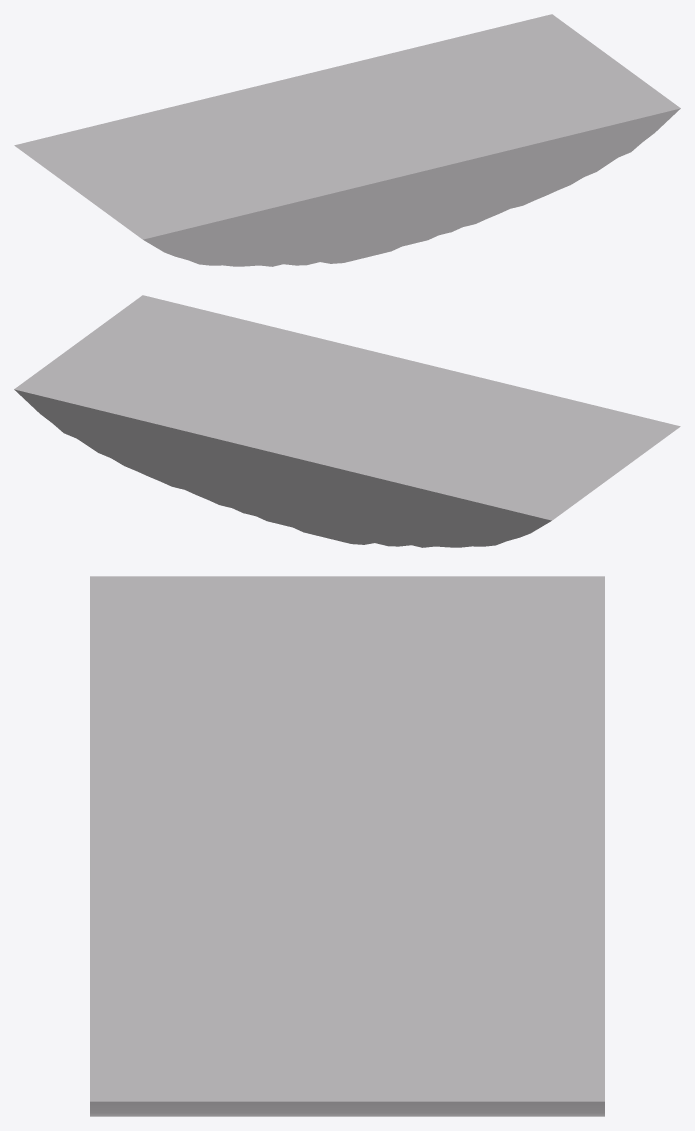
The model's file is Edge.fbx.
3 views of the same model, one above another, from view 1: azimuth 30°, elevation 25°; view 2: azimuth 150°, elevation 25°; view 3: azimuth 270°, elevation 25° (orthographic). The views are drawn at different scales.
Parts seen in each view (by area): view 1: root; view 2: root; view 3: root.
Boxes of the visible parts, bbox=[...] form: root: bbox=[14, 14, 680, 266]; root: bbox=[14, 295, 680, 547]; root: bbox=[90, 576, 604, 1116].
Size of the model in its own units: 0.2412 by 0.031 by 0.1.
Materials: 1 (1 with a texture image).
